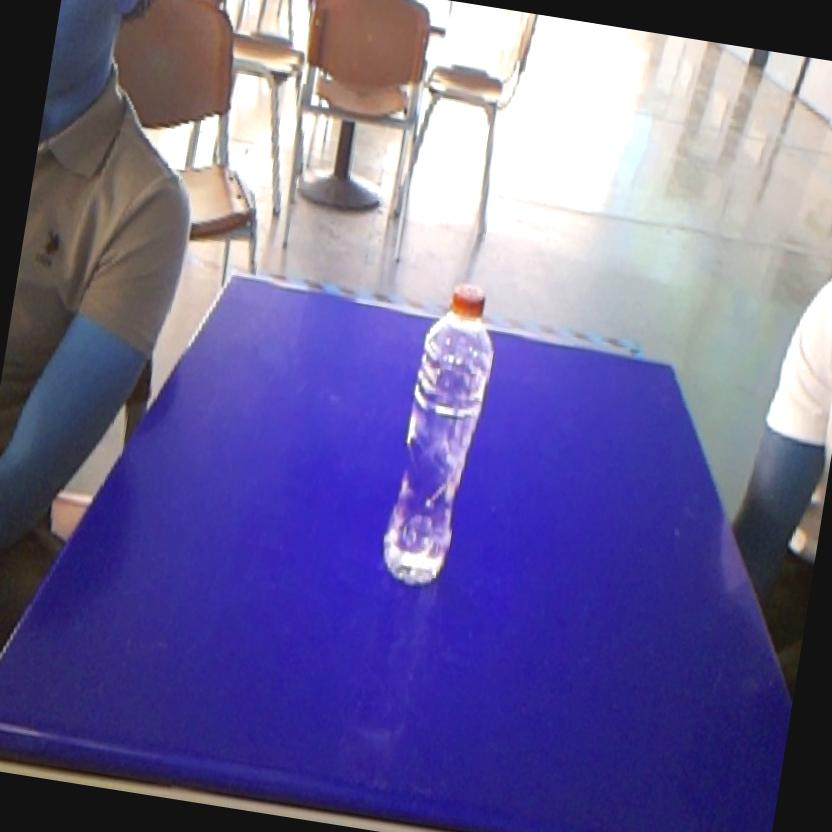no_label: (368, 265, 510, 596)
